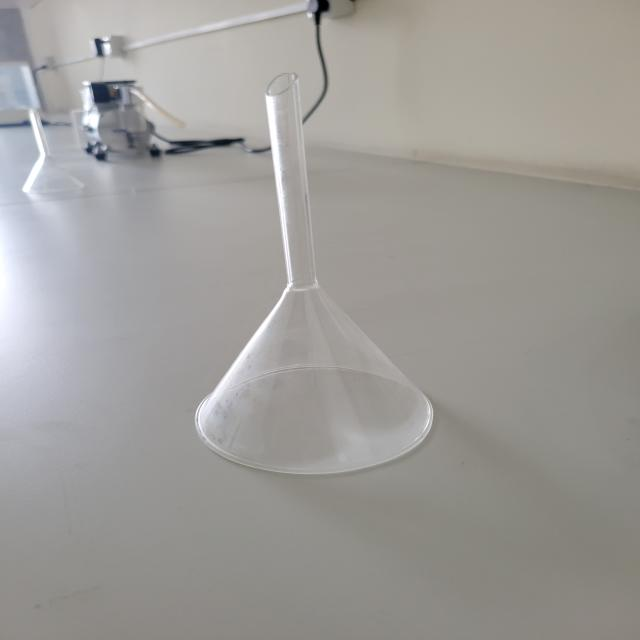Funnel: (140, 48, 479, 514)
